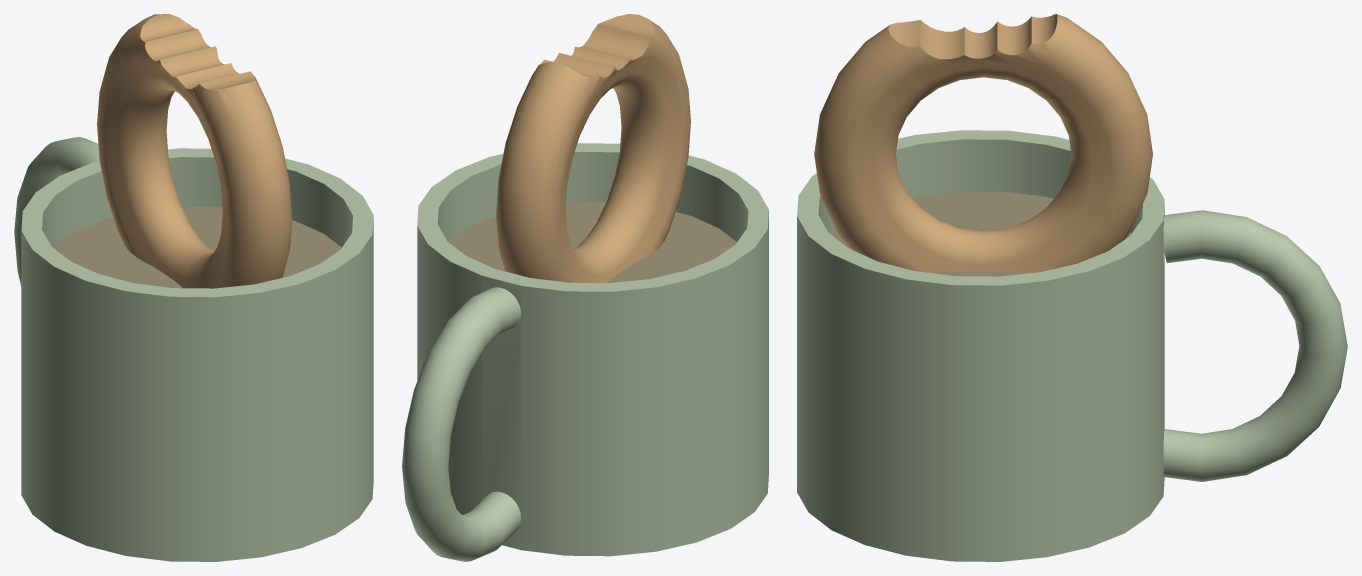
3 renders of one model, left to right at view 1: azimuth 30°, elevation 25°; view 2: azimuth 150°, elevation 25°; view 3: azimuth 270°, elevation 25°, orthographic. The views are drawn at different scales.
Parts seen in each view (by area): view 1: mesh2_mesh2-geometry, mesh1_mesh1-geometry, mesh2_mesh2-geometry_2; view 2: mesh2_mesh2-geometry, mesh1_mesh1-geometry, mesh2_mesh2-geometry_2; view 3: mesh2_mesh2-geometry, mesh1_mesh1-geometry, mesh2_mesh2-geometry_2.
Boxes of the visible parts, x1=… form: mesh2_mesh2-geometry: x1=14, y1=137, x2=373, y2=561; mesh1_mesh1-geometry: x1=97, y1=14, x2=292, y2=288; mesh2_mesh2-geometry_2: x1=53, y1=207, x2=341, y2=288; mesh2_mesh2-geometry: x1=402, y1=143, x2=768, y2=561; mesh1_mesh1-geometry: x1=496, y1=14, x2=690, y2=282; mesh2_mesh2-geometry_2: x1=449, y1=201, x2=736, y2=282; mesh2_mesh2-geometry: x1=797, y1=130, x2=1347, y2=561; mesh1_mesh1-geometry: x1=814, y1=14, x2=1152, y2=273; mesh2_mesh2-geometry_2: x1=830, y1=191, x2=1131, y2=276.
Bounding box in the file's own units: 0.4384 × 0.6135 × 0.6568.
